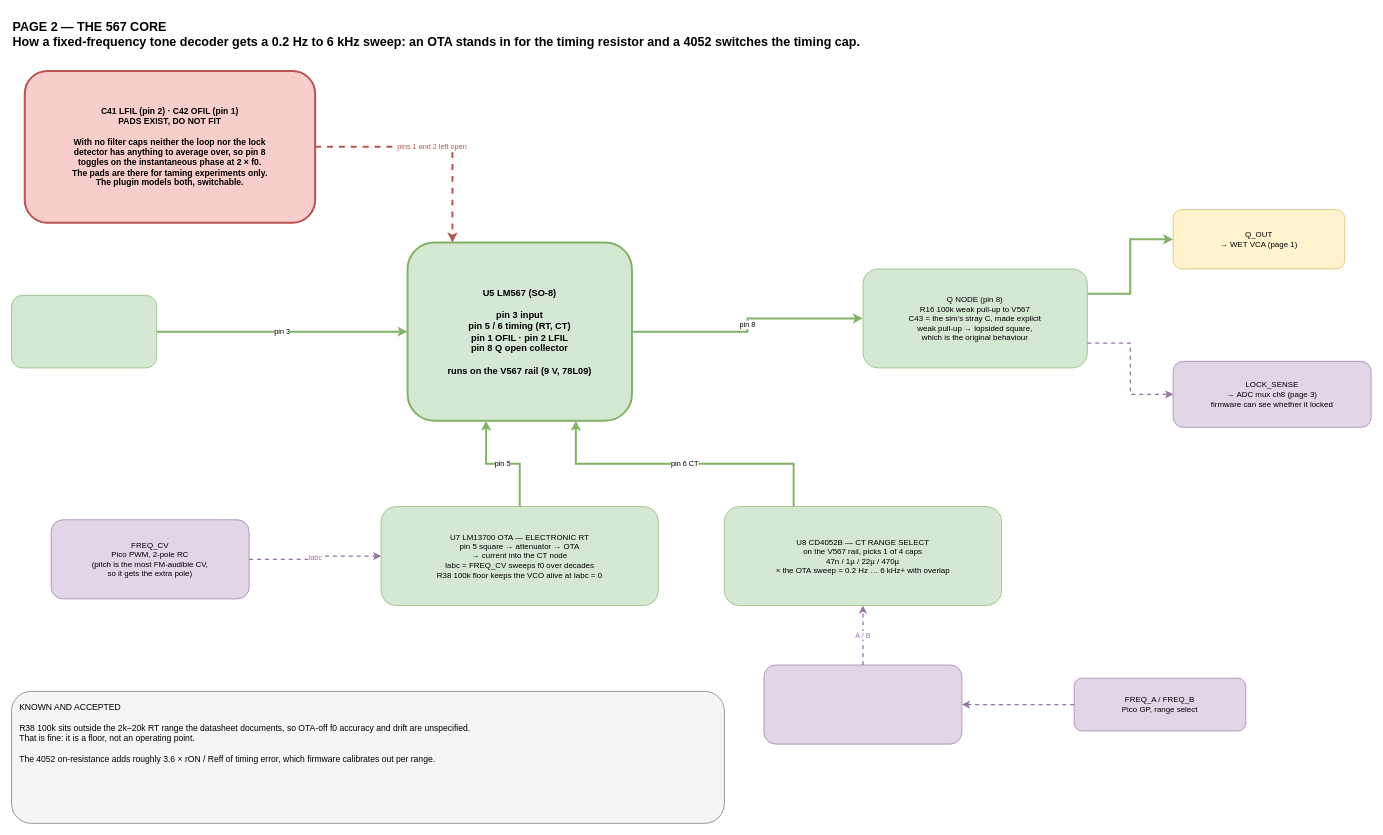
Image size: 1383x835. Some labels were removed from this diagram. The shapes that lost their labels are listed below. From the top down, each one's box as (x1, y1, x2, y2) in pixels, then its label:
(11, 295, 157, 368): V567_DRIVE clipped square from the ×214.6 gain stage
(763, 664, 962, 744): Q2 / Q3 MMBT3904 LEVEL SHIFT 3.3 V → V567 INVERTING — firmware flips the bits
